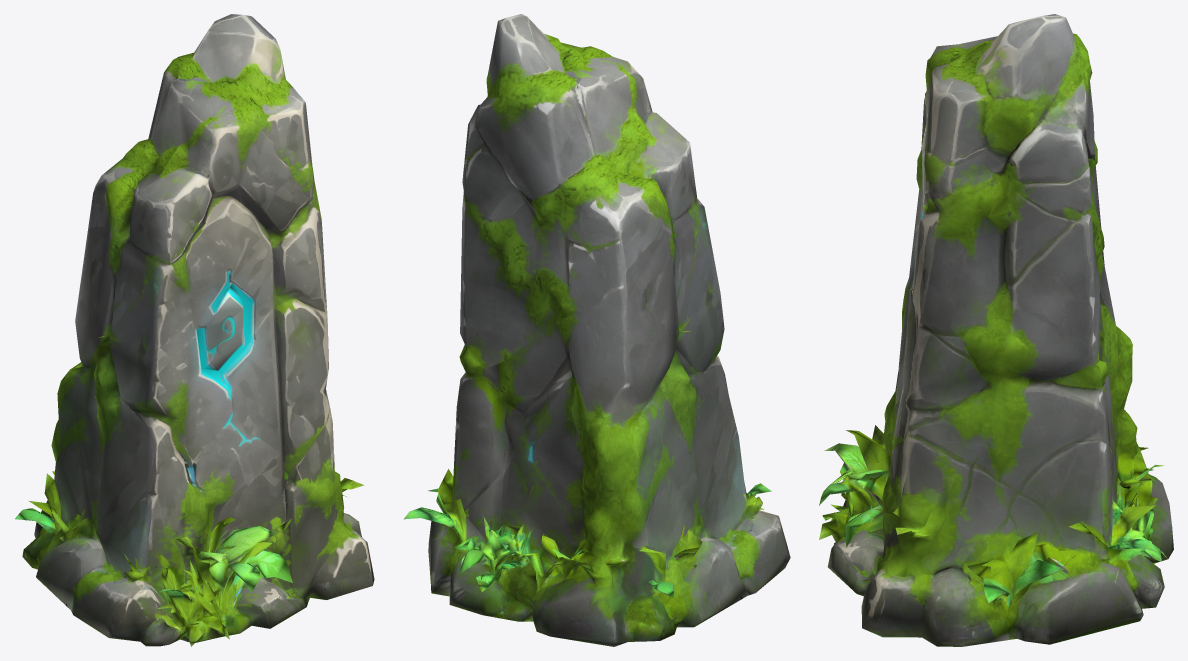
The model's file is Meshy_AI_Azure_Glyph_Monolith_0619053023_texture.fbx.
The picture shows the model from 3 angles, left to right: view 1: azimuth 30°, elevation 25°; view 2: azimuth 150°, elevation 25°; view 3: azimuth 270°, elevation 25°; orthographic projection. The views are drawn at different scales.
Parts seen in each view (by area): view 1: Mesh1.0; view 2: Mesh1.0; view 3: Mesh1.0.
Part boxes in pixels (x1,y1,x2,y2): Mesh1.0: (15, 14, 374, 646); Mesh1.0: (404, 14, 790, 646); Mesh1.0: (819, 14, 1173, 646).
Size of the model in its own units: 108 by 191 by 104.
1 material, 1 textured.
